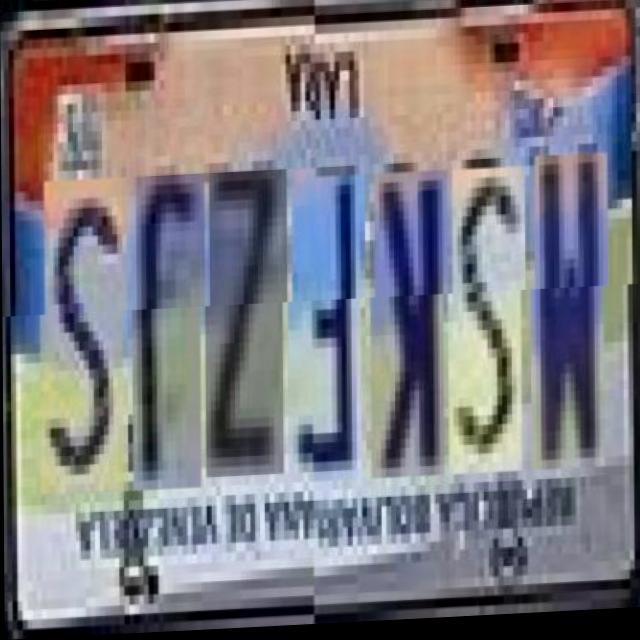f: (286, 169, 361, 477)
j: (131, 175, 201, 493)
k: (369, 165, 445, 474)
m: (529, 150, 605, 466)
s: (39, 179, 123, 497), (448, 162, 521, 471)
z: (203, 172, 284, 481)
